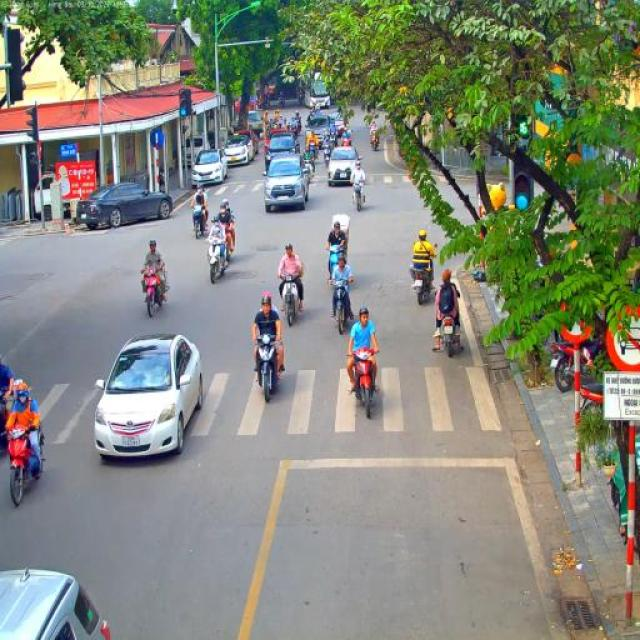bus: (304, 70, 331, 110)
car: (94, 332, 204, 463), (0, 564, 112, 640), (75, 180, 174, 230), (263, 151, 311, 213), (191, 148, 228, 188), (263, 133, 299, 172), (327, 146, 361, 187), (222, 132, 253, 166), (304, 114, 328, 147), (232, 129, 258, 157), (262, 128, 288, 150), (323, 106, 346, 130)
motorcycle: (5, 418, 46, 508), (548, 326, 600, 394), (347, 347, 378, 419), (409, 242, 438, 306), (254, 332, 280, 403), (140, 266, 170, 318), (327, 276, 349, 335), (206, 234, 228, 284), (212, 214, 234, 264), (278, 273, 298, 327), (438, 312, 459, 358), (0, 394, 15, 457), (326, 241, 346, 284), (578, 381, 604, 413), (190, 202, 208, 240), (303, 156, 317, 183), (352, 180, 363, 211), (322, 142, 333, 168), (308, 142, 318, 162), (370, 130, 379, 150), (328, 132, 338, 148), (293, 120, 301, 138), (339, 136, 352, 146), (279, 97, 285, 108), (298, 94, 303, 106)
truck: (30, 164, 110, 220), (244, 110, 264, 138)
